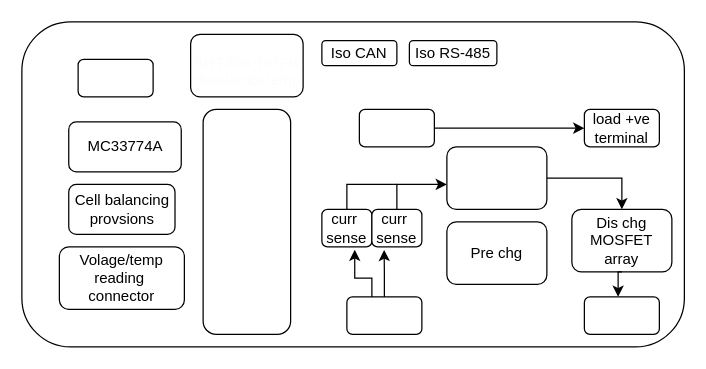
Some shapes in this 706 by 369 pixel diagram are drawn without their labels. Each missing label, with the box of its shape:
batt +ve terminal: (358, 108, 434, 147)
batt -ve terminal: (346, 296, 422, 334)
chg MOSFET array: (446, 146, 547, 209)
Flash: (77, 58, 153, 97)
load -ve terminal: (583, 296, 659, 334)
S32K341 EHT0M PBST: (202, 108, 291, 334)
